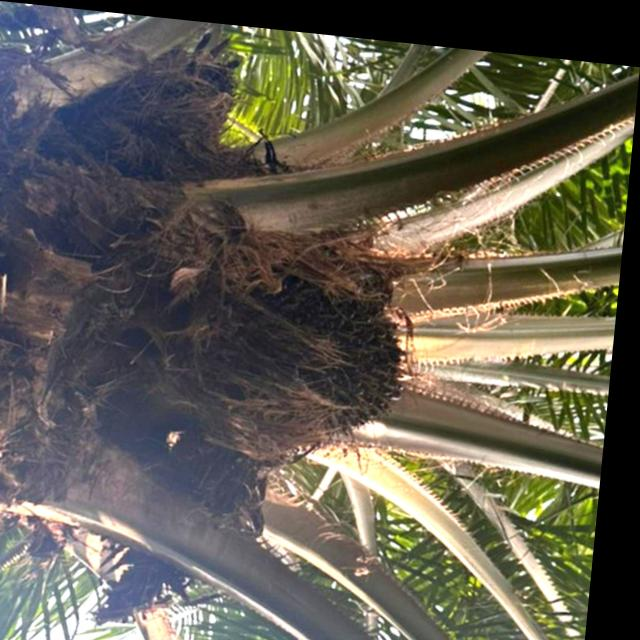almost: (189, 221, 439, 464)
